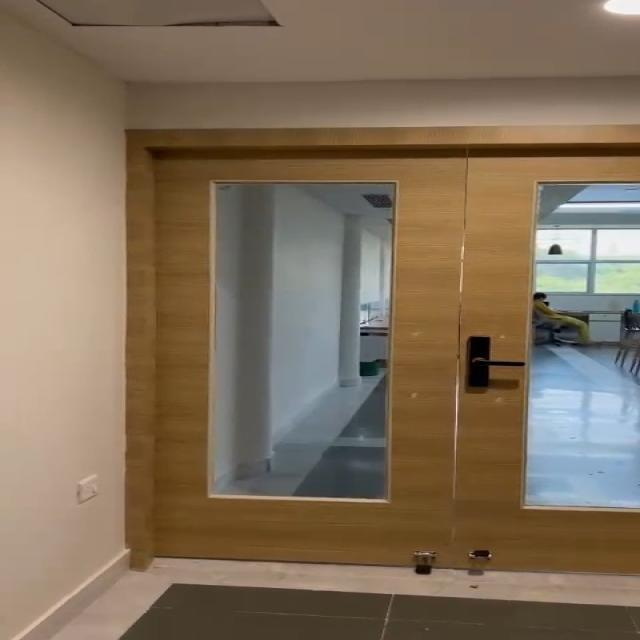door: (120, 128, 640, 568)
floor: (115, 572, 640, 640)
wall: (0, 14, 125, 584)
